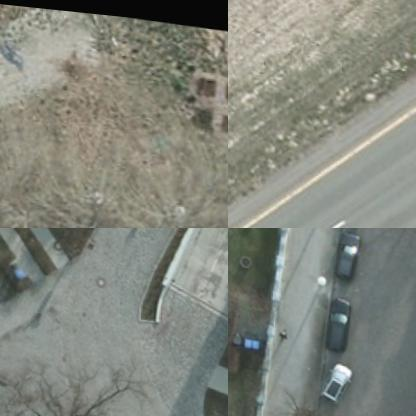car: (319, 284, 350, 352), (324, 228, 360, 279), (316, 356, 352, 399)
